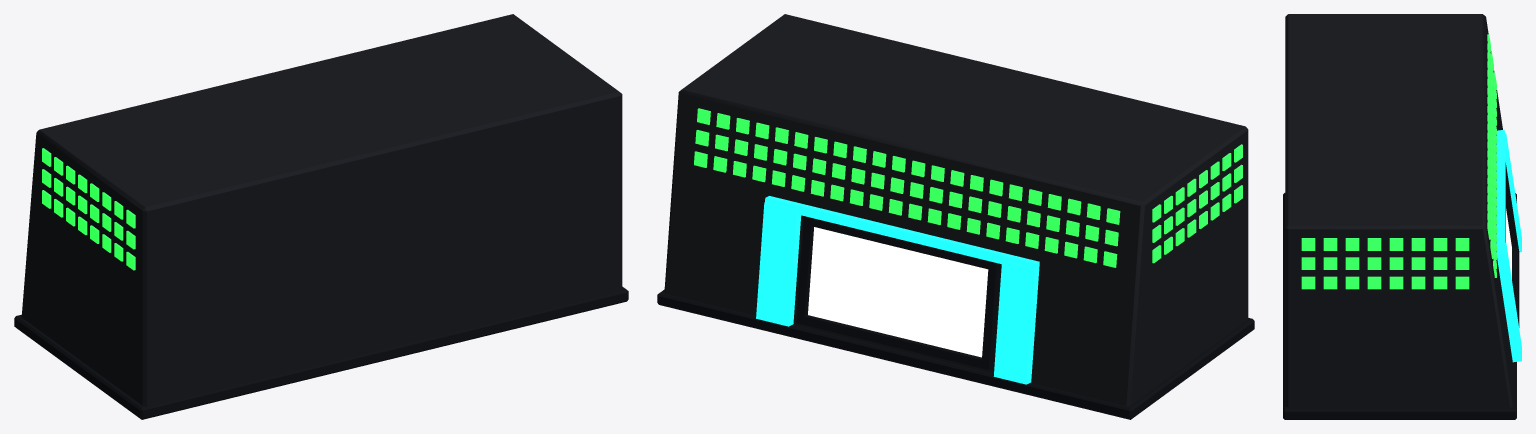
Rendered from deck_led_columns.glb.
3 views of the same model, side by side, from view 1: azimuth 30°, elevation 25°; view 2: azimuth 150°, elevation 25°; view 3: azimuth 270°, elevation 25° (orthographic). The views are drawn at different scales.
Parts seen in each view (by area): view 1: deck_led_columns_deco_body, deck_led_columns_deco_trim, deck_led_columns_deco_led; view 2: deck_led_columns_deco_body, deck_led_columns_deco_led, deck_led_columns_acrylic_sign, deck_led_columns_deco_trim, deck_led_columns_deco_neon; view 3: deck_led_columns_deco_body, deck_led_columns_deco_led, deck_led_columns_deco_trim, deck_led_columns_deco_neon.
Boxes of the visible parts, left/top/right/bottom form: deck_led_columns_deco_body: left=21, top=14, right=622, bottom=406; deck_led_columns_deco_trim: left=14, top=286, right=628, bottom=419; deck_led_columns_deco_led: left=42, top=148, right=135, bottom=270; deck_led_columns_deco_body: left=664, top=14, right=1248, bottom=406; deck_led_columns_deco_led: left=694, top=108, right=1242, bottom=267; deck_led_columns_acrylic_sign: left=808, top=227, right=988, bottom=357; deck_led_columns_deco_trim: left=657, top=216, right=1254, bottom=419; deck_led_columns_deco_neon: left=756, top=196, right=1039, bottom=384; deck_led_columns_deco_body: left=1285, top=14, right=1512, bottom=407; deck_led_columns_deco_led: left=1301, top=34, right=1496, bottom=289; deck_led_columns_deco_trim: left=1283, top=163, right=1519, bottom=419; deck_led_columns_deco_neon: left=1496, top=129, right=1521, bottom=362.
Bounding box in the file's own units: 2.14 × 0.8784 × 0.9905.
